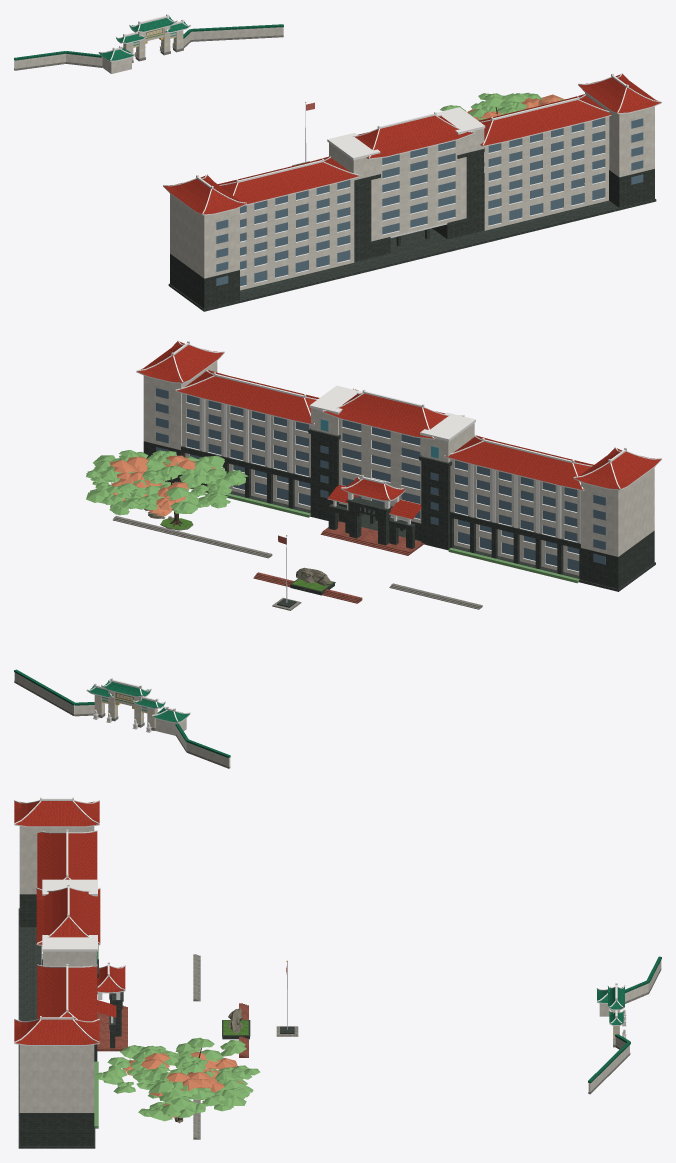
Rendered from d01_axis_forecourt_lod0.glb.
3 views of the same model, one above another, from view 1: azimuth 30°, elevation 25°; view 2: azimuth 150°, elevation 25°; view 3: azimuth 270°, elevation 25° (orthographic). The views are drawn at different scales.
Parts seen in each view (by area): view 1: yihao_teaching_block_1, beimen_north_gate, centenary_terminalia_hero; view 2: yihao_teaching_block_1, centenary_terminalia_hero, beimen_north_gate, forecourt_taihu_landmark; view 3: yihao_teaching_block_1, centenary_terminalia_hero, beimen_north_gate, forecourt_taihu_landmark.
Boxes of the visible parts, x1,y1,x2,y2 form: yihao_teaching_block_1: (163, 73, 661, 311); beimen_north_gate: (14, 14, 283, 73); centenary_terminalia_hero: (440, 92, 565, 147); yihao_teaching_block_1: (136, 340, 661, 591); centenary_terminalia_hero: (86, 450, 248, 530); beimen_north_gate: (14, 669, 230, 768); forecourt_taihu_landmark: (113, 482, 579, 610); yihao_teaching_block_1: (14, 797, 127, 1148); centenary_terminalia_hero: (94, 1037, 260, 1123); beimen_north_gate: (588, 956, 661, 1094); forecourt_taihu_landmark: (94, 945, 298, 1139).
Size of the model in its own units: 119 by 29.69 by 132.
24 materials, 11 textured.
